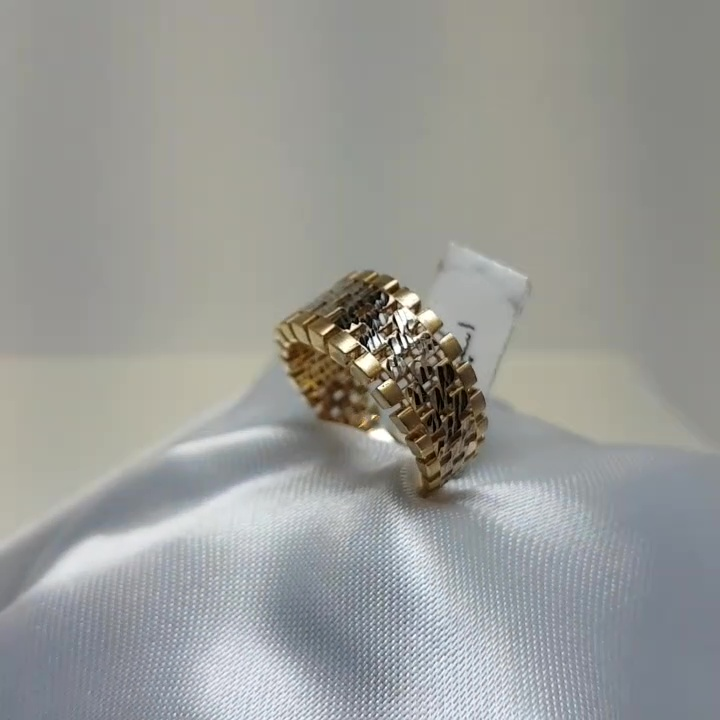Ring 1: (240, 235, 503, 533)
